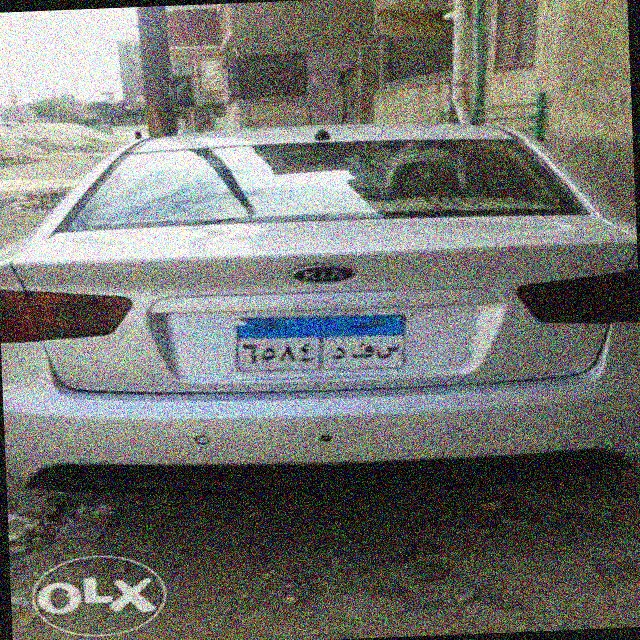License Plate: (230, 307, 410, 377)
